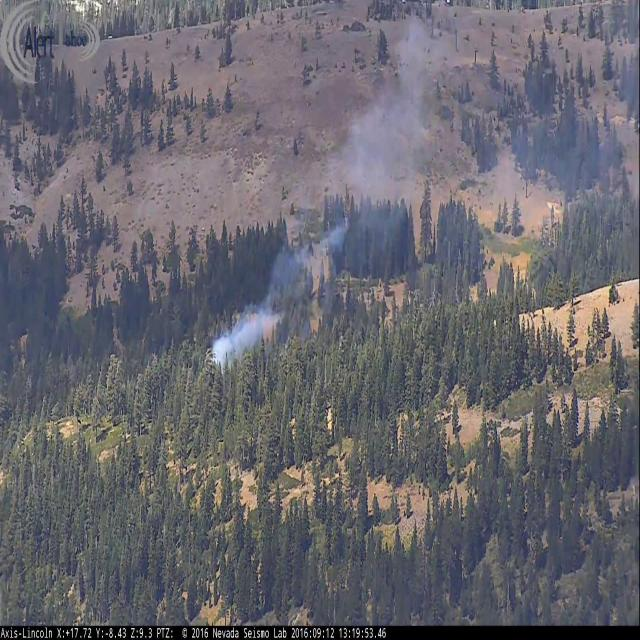smoke: (211, 0, 640, 370)
